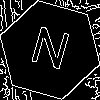N: (25, 25, 73, 80)
